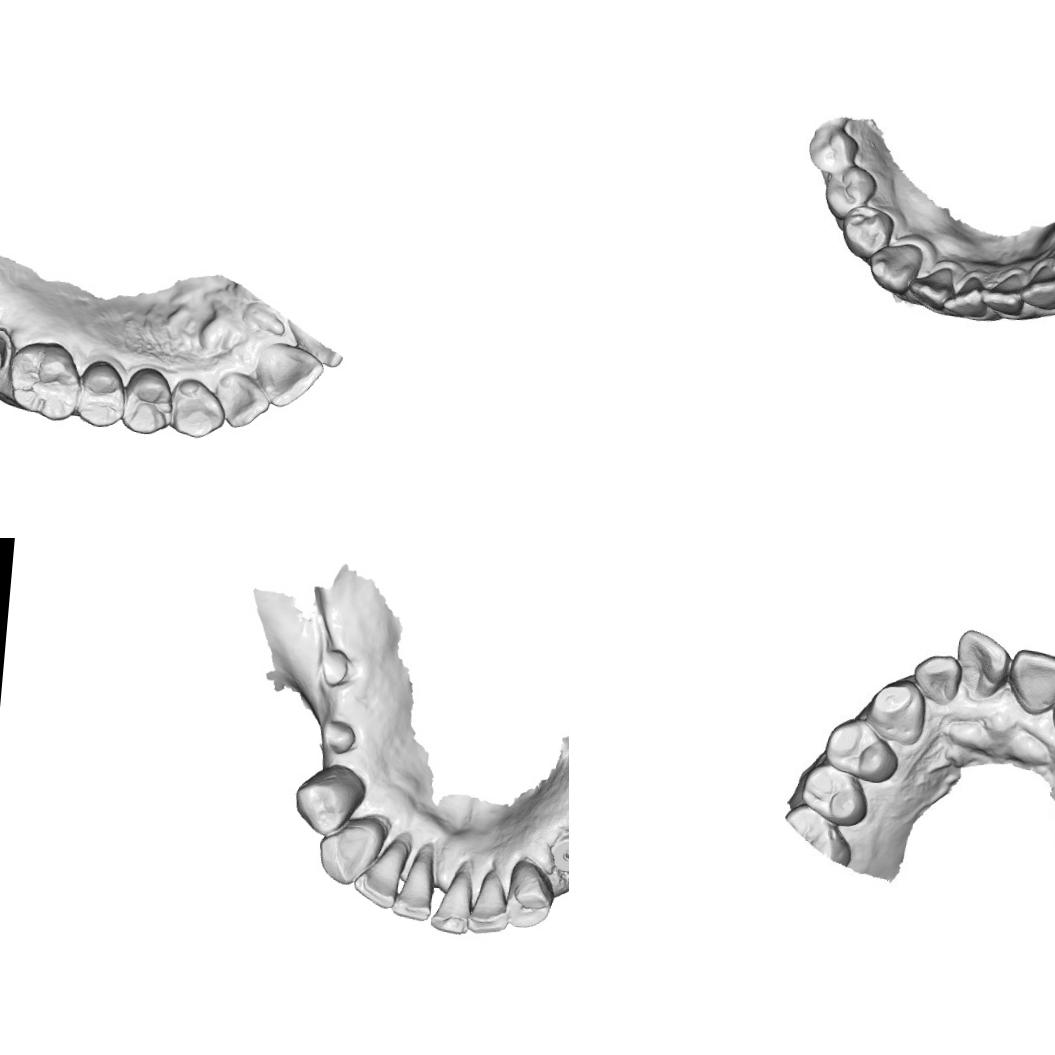abutment: (0, 323, 16, 378)
canine: (312, 819, 380, 890), (866, 676, 928, 748), (500, 855, 554, 932), (165, 376, 225, 442), (865, 236, 924, 296)
implant: (544, 825, 569, 875)
incisor: (250, 338, 328, 413), (950, 624, 1015, 703), (349, 839, 406, 912), (215, 364, 273, 434), (388, 850, 440, 923), (1005, 647, 1055, 716), (464, 872, 514, 938), (429, 872, 474, 936), (913, 650, 965, 705), (904, 261, 956, 314), (984, 269, 1028, 318), (947, 272, 990, 320), (1026, 264, 1055, 304)
molar: (1, 334, 84, 424)
premolar: (288, 760, 367, 839), (822, 714, 900, 784), (797, 758, 870, 827), (70, 354, 130, 431), (121, 360, 176, 439), (842, 204, 895, 262), (822, 166, 875, 214)
